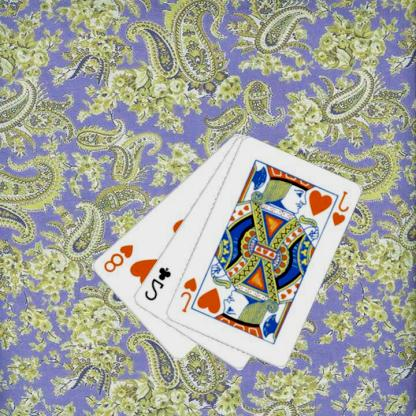2C: (143, 265, 174, 302)
8H: (102, 241, 136, 274)
JH: (330, 188, 352, 228), (179, 275, 200, 314)
